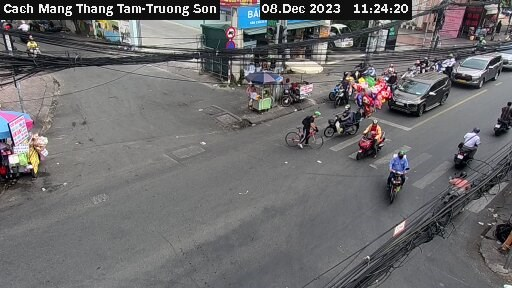car: (389, 70, 451, 118), (453, 50, 503, 94), (499, 45, 512, 71)
motorbike: (381, 160, 425, 211), (444, 126, 486, 177), (320, 102, 363, 143), (355, 124, 388, 159), (485, 100, 512, 135), (332, 83, 360, 109)
